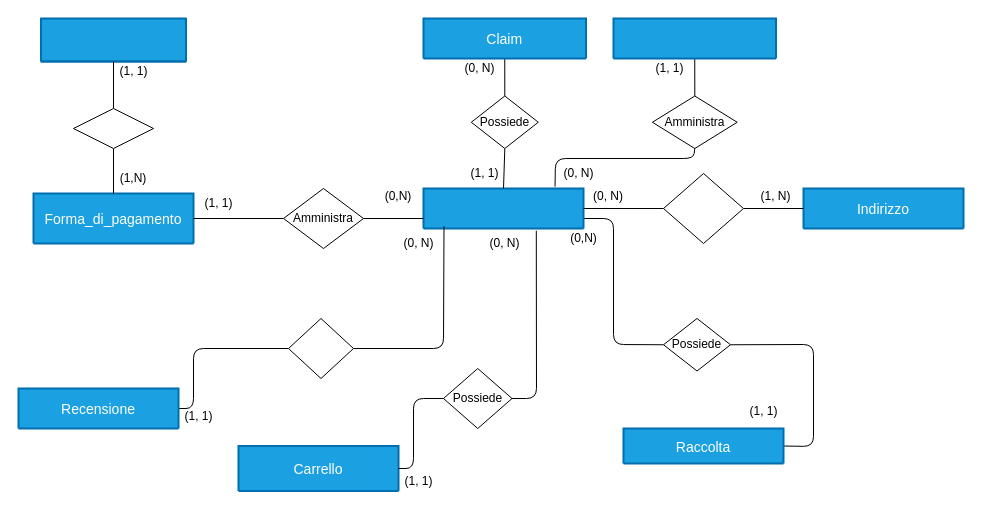
Some shapes in this 981 by 509 pixel diagram are drawn without their labels. The centre of each missing label's shape, as x and y in pixels:
"Articolo" belongs at pixel 694 38.
"Rispettivo" belongs at pixel 113 128.
"Scrive" belongs at pixel 321 348.
"Tipo_pagamento" belongs at pixel 113 39.
"Ubicato" belongs at pixel 703 208.
"Utente" belongs at pixel 503 208.
